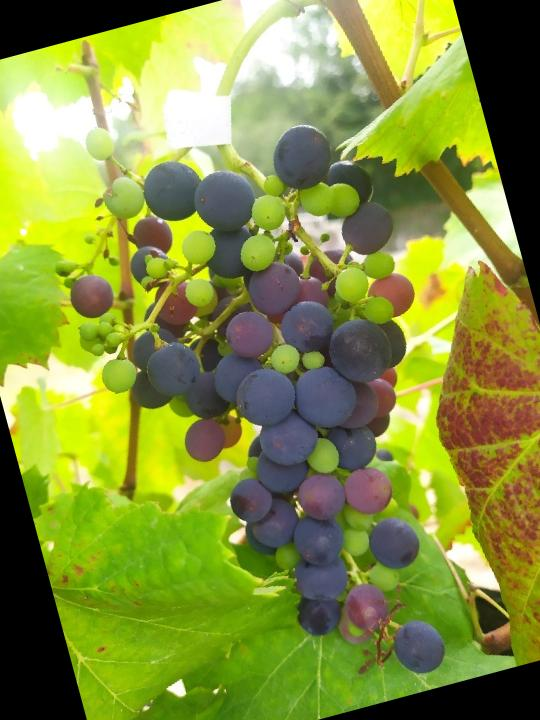grape: (24, 54, 514, 720)
